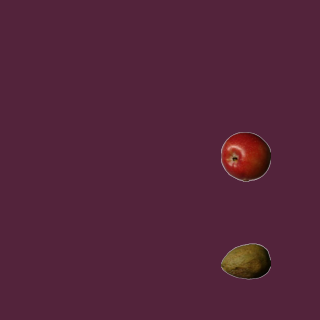Apple Braeburn: (220, 131, 270, 181)
Papaya: (220, 236, 270, 286)
